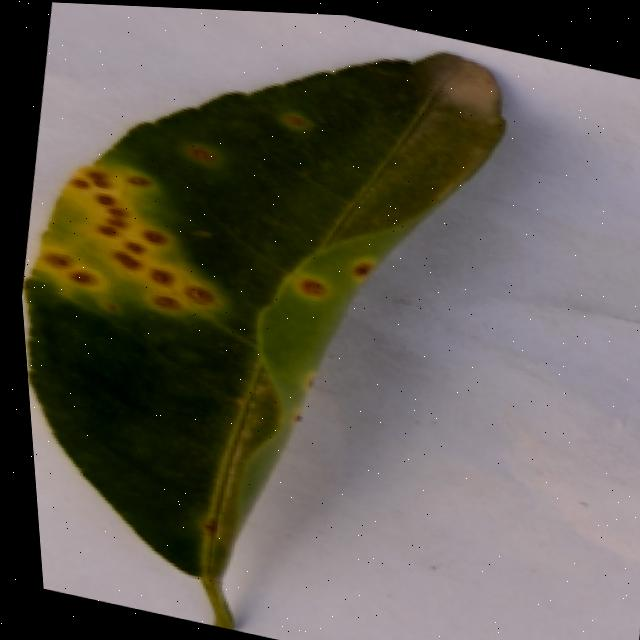canker: (25, 53, 502, 626), (10, 129, 257, 342), (273, 232, 411, 327), (174, 126, 233, 181), (264, 102, 333, 145)
